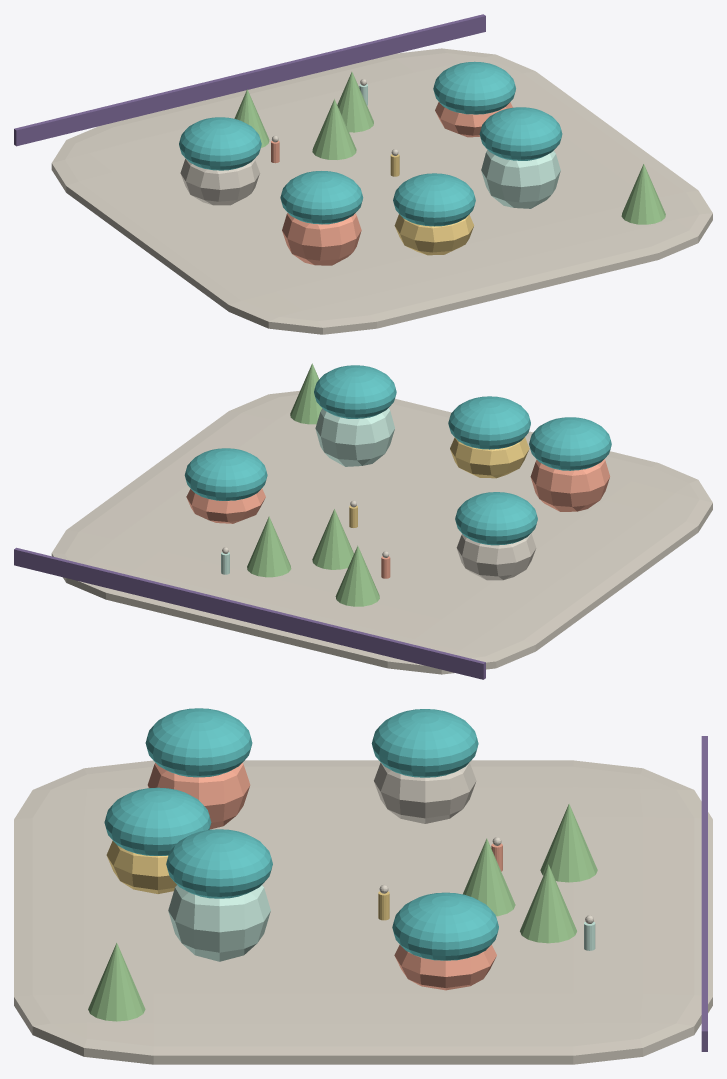
Rendered from level_slice.glb.
3 views of the same model, one above another, from view 1: azimuth 30°, elevation 25°; view 2: azimuth 150°, elevation 25°; view 3: azimuth 270°, elevation 25° (orthographic). The views are drawn at different scales.
Visible parts, largest first — view 1: floor, rim_rail, roof_2, roof_0, roof_3, roof_1, roof_4, house_2, house_0, house_3, house_1, tree_3 (+4 smaller); view 2: floor, rim_rail, roof_2, roof_0, roof_3, roof_1, roof_4, house_2, house_0, house_3, house_1, house_4 (+4 smaller); view 3: floor, roof_2, roof_0, roof_3, roof_4, house_2, roof_1, house_3, house_0, house_4, tree_3, tree_1 (+4 smaller).
Boxes of the visible parts, <box> form: floor: <box>51,48,712,334</box>; rim_rail: <box>14,14,485,146</box>; roof_2: <box>479,107,562,160</box>; roof_0: <box>280,171,363,224</box>; roof_3: <box>179,117,261,170</box>; roof_1: <box>393,173,475,226</box>; roof_4: <box>433,61,515,114</box>; house_2: <box>481,150,560,208</box>; house_0: <box>282,213,361,265</box>; house_3: <box>180,158,259,205</box>; house_1: <box>394,214,474,255</box>; tree_3: <box>621,164,665,224</box>; floor: <box>51,390,712,674</box>; rim_rail: <box>14,547,485,679</box>; roof_2: <box>314,365,396,418</box>; roof_0: <box>529,417,611,470</box>; roof_3: <box>455,492,537,545</box>; roof_1: <box>448,396,530,449</box>; roof_4: <box>184,448,267,500</box>; house_2: <box>315,408,394,466</box>; house_0: <box>530,459,610,511</box>; house_3: <box>456,533,536,580</box>; house_1: <box>450,437,529,478</box>; house_4: <box>186,488,265,523</box>; floor: <box>14,760,712,1064</box>; roof_2: <box>166,829,272,898</box>; roof_0: <box>145,708,252,777</box>; roof_3: <box>371,709,478,777</box>; roof_4: <box>392,892,498,960</box>; house_2: <box>168,885,270,961</box>; roof_1: <box>104,787,211,855</box>; house_3: <box>374,762,476,823</box>; house_0: <box>147,763,250,829</box>; house_4: <box>394,944,496,990</box>; tree_3: <box>88,942,145,1021</box>; tree_1: <box>520,864,576,943</box>.
Size of the model in its own units: 34 by 7.23 by 34.
